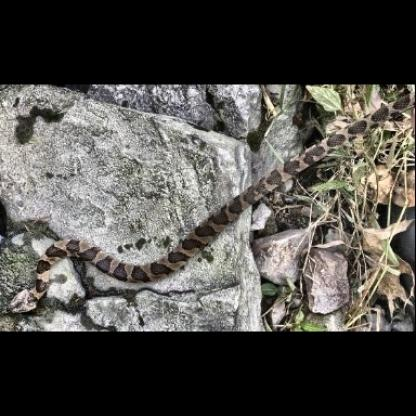Snake: (9, 82, 412, 315)
